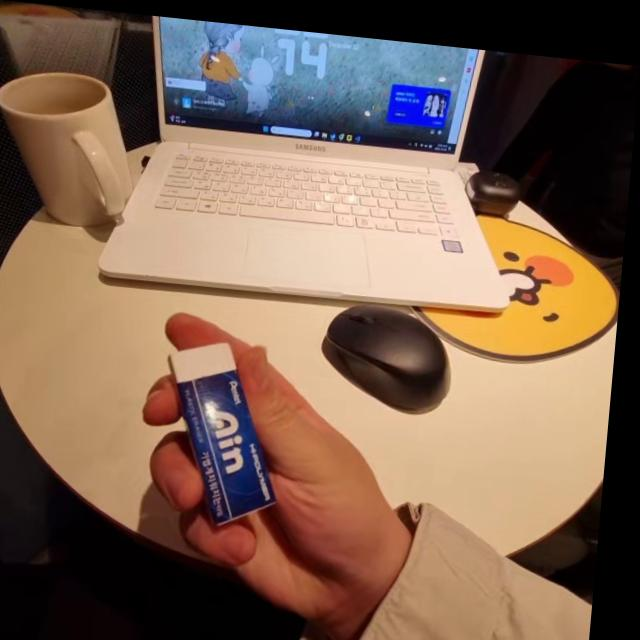grab_eraser: (134, 324, 430, 640)
mouse: (317, 286, 471, 422)
